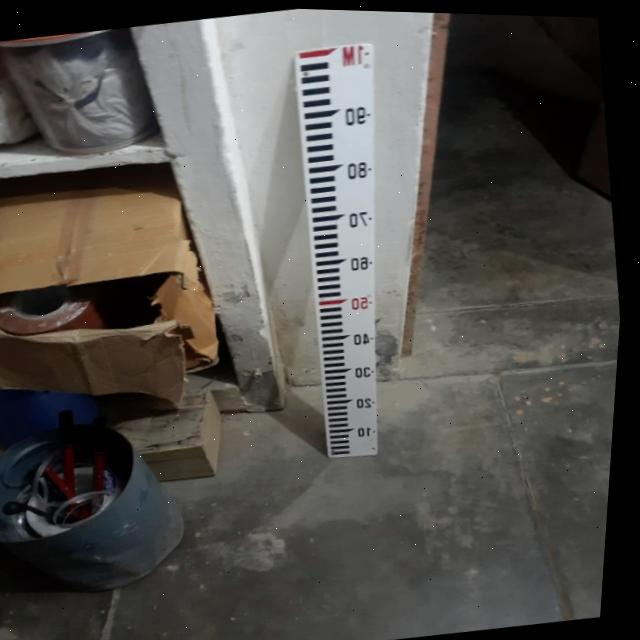water-meter: (243, 33, 440, 483)
